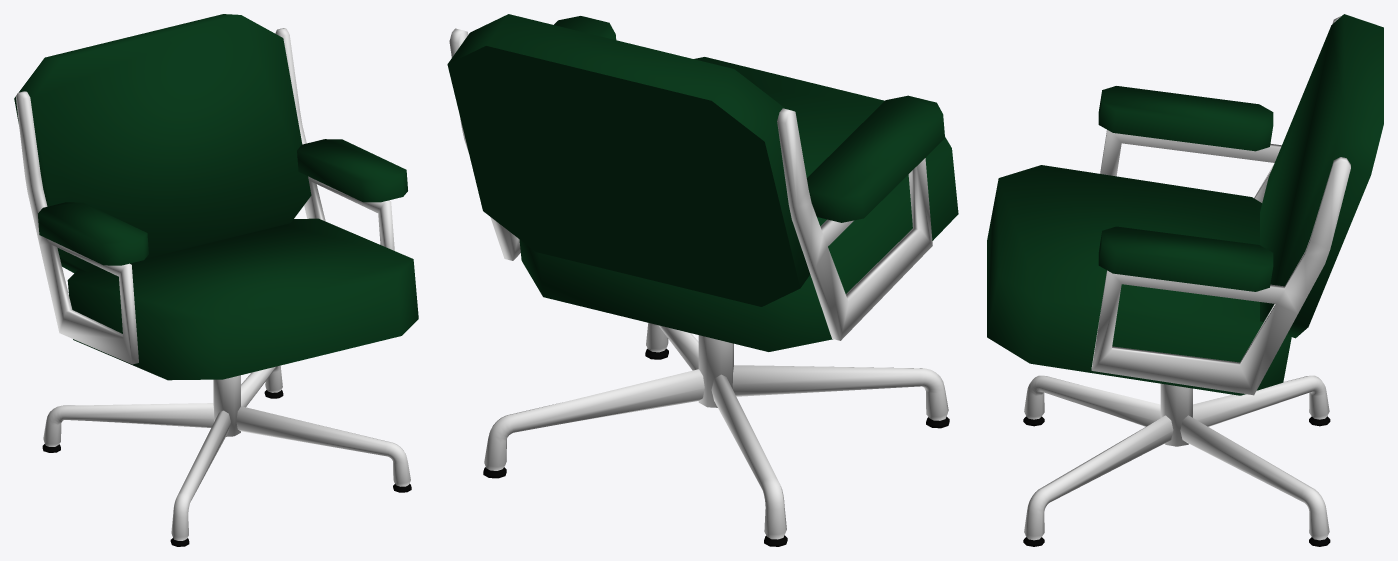
The model's file is chair_preview_light.glb.
3 renders of one model, left to right at view 1: azimuth 30°, elevation 25°; view 2: azimuth 150°, elevation 25°; view 3: azimuth 270°, elevation 25°, orthographic. The views are drawn at different scales.
Parts seen in each view (by area): view 1: body_back, body_seat, bottom_leg_1, arm_cushion, arm_frame, bottom_center; view 2: body_back, body_seat, bottom_leg_1, arm_frame, arm_cushion, bottom_center; view 3: body_seat, body_back, arm_cushion, arm_frame, bottom_leg_1, bottom_center.
Part boxes in pixels (x1,y1,x2,y2): body_back: (14, 14, 311, 273); body_seat: (67, 218, 418, 380); bottom_leg_1: (42, 365, 411, 546); arm_cushion: (38, 139, 407, 265); arm_frame: (16, 28, 394, 364); bottom_center: (213, 375, 240, 436); body_back: (447, 14, 810, 306); body_seat: (519, 57, 958, 351); bottom_leg_1: (483, 323, 949, 546); arm_frame: (449, 28, 932, 340); arm_cushion: (554, 16, 944, 222); bottom_center: (698, 335, 733, 407); body_seat: (987, 165, 1291, 395); body_back: (1260, 14, 1383, 338); arm_cushion: (1098, 86, 1273, 291); arm_frame: (1091, 16, 1350, 395); bottom_leg_1: (1023, 375, 1330, 546); bottom_center: (1160, 383, 1192, 446).
Bounding box in the file's own units: 0.6813 × 0.8061 × 0.6909.
